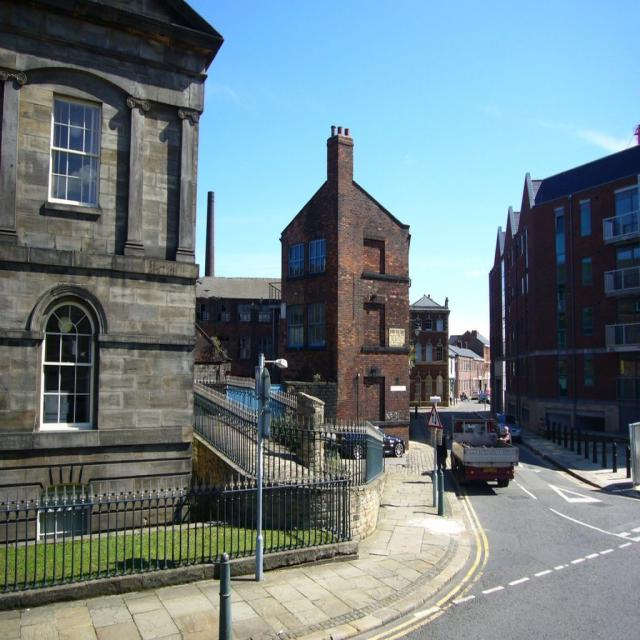car: (478, 389, 488, 402), (470, 389, 478, 398)
